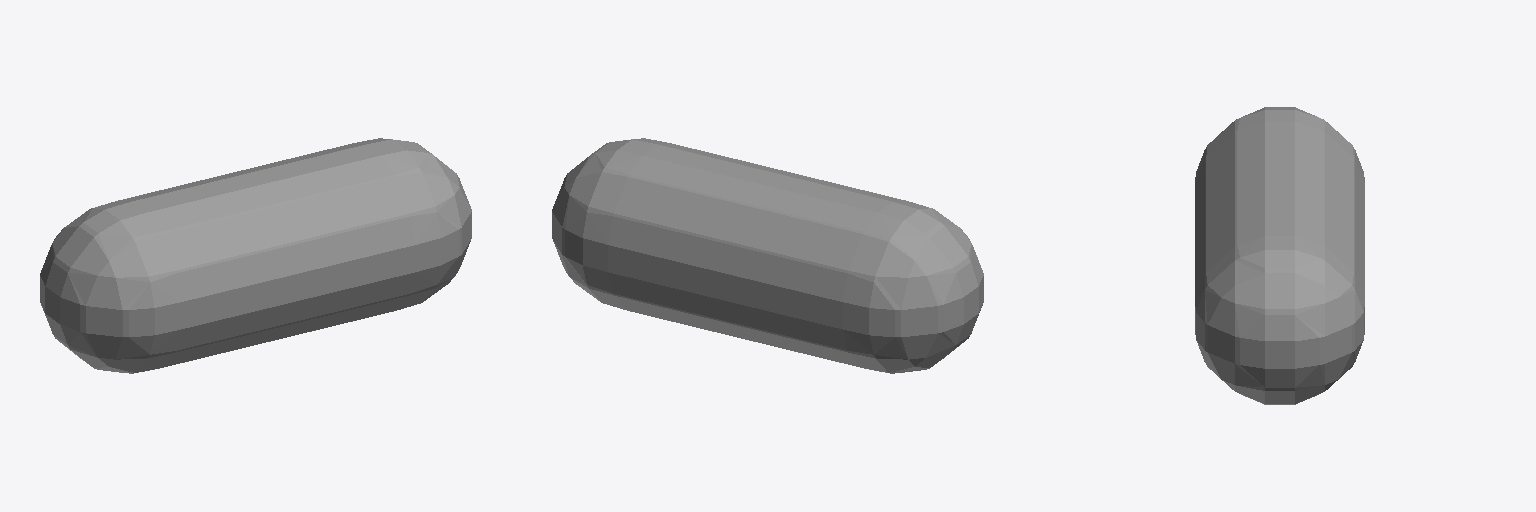
3 renders of one model, left to right at view 1: azimuth 30°, elevation 25°; view 2: azimuth 150°, elevation 25°; view 3: azimuth 270°, elevation 25°, orthographic.
Visible parts, largest first — view 1: Mball.001_Mesh; view 2: Mball.001_Mesh; view 3: Mball.001_Mesh.
Boxes of the visible parts, box(x1,y1,x2,y2) form: Mball.001_Mesh: box(40, 138, 471, 373); Mball.001_Mesh: box(552, 138, 983, 373); Mball.001_Mesh: box(1195, 107, 1364, 404).
Size of the model in its own units: 3.12 by 1.13 by 1.13.